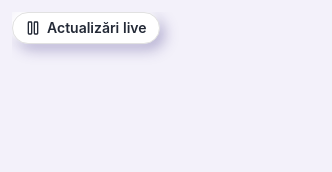
LivePauseSwitch › toggles livePaused and announces the new state
The image size is (332, 172).
Later steps or results of the test are not shown.
Click the switch labelled "Actualizări live".
click(86, 28)  # box left=12, top=12, right=160, bottom=44
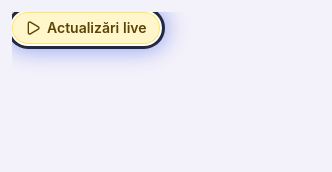
expect the switch labelled "Actualizări live" is not checked: met, box left=12, top=12, right=160, bottom=44
